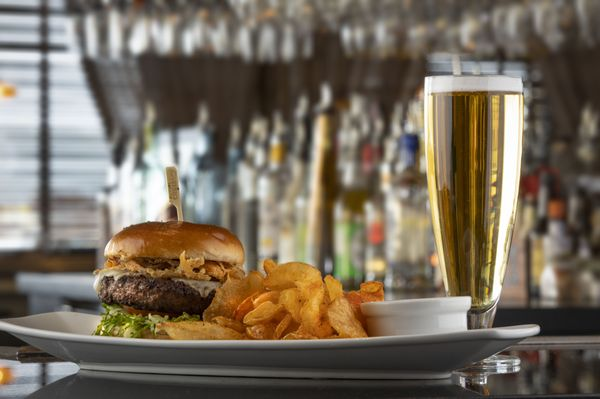soup: (93, 221, 247, 332)
sushi: (360, 296, 472, 338)
